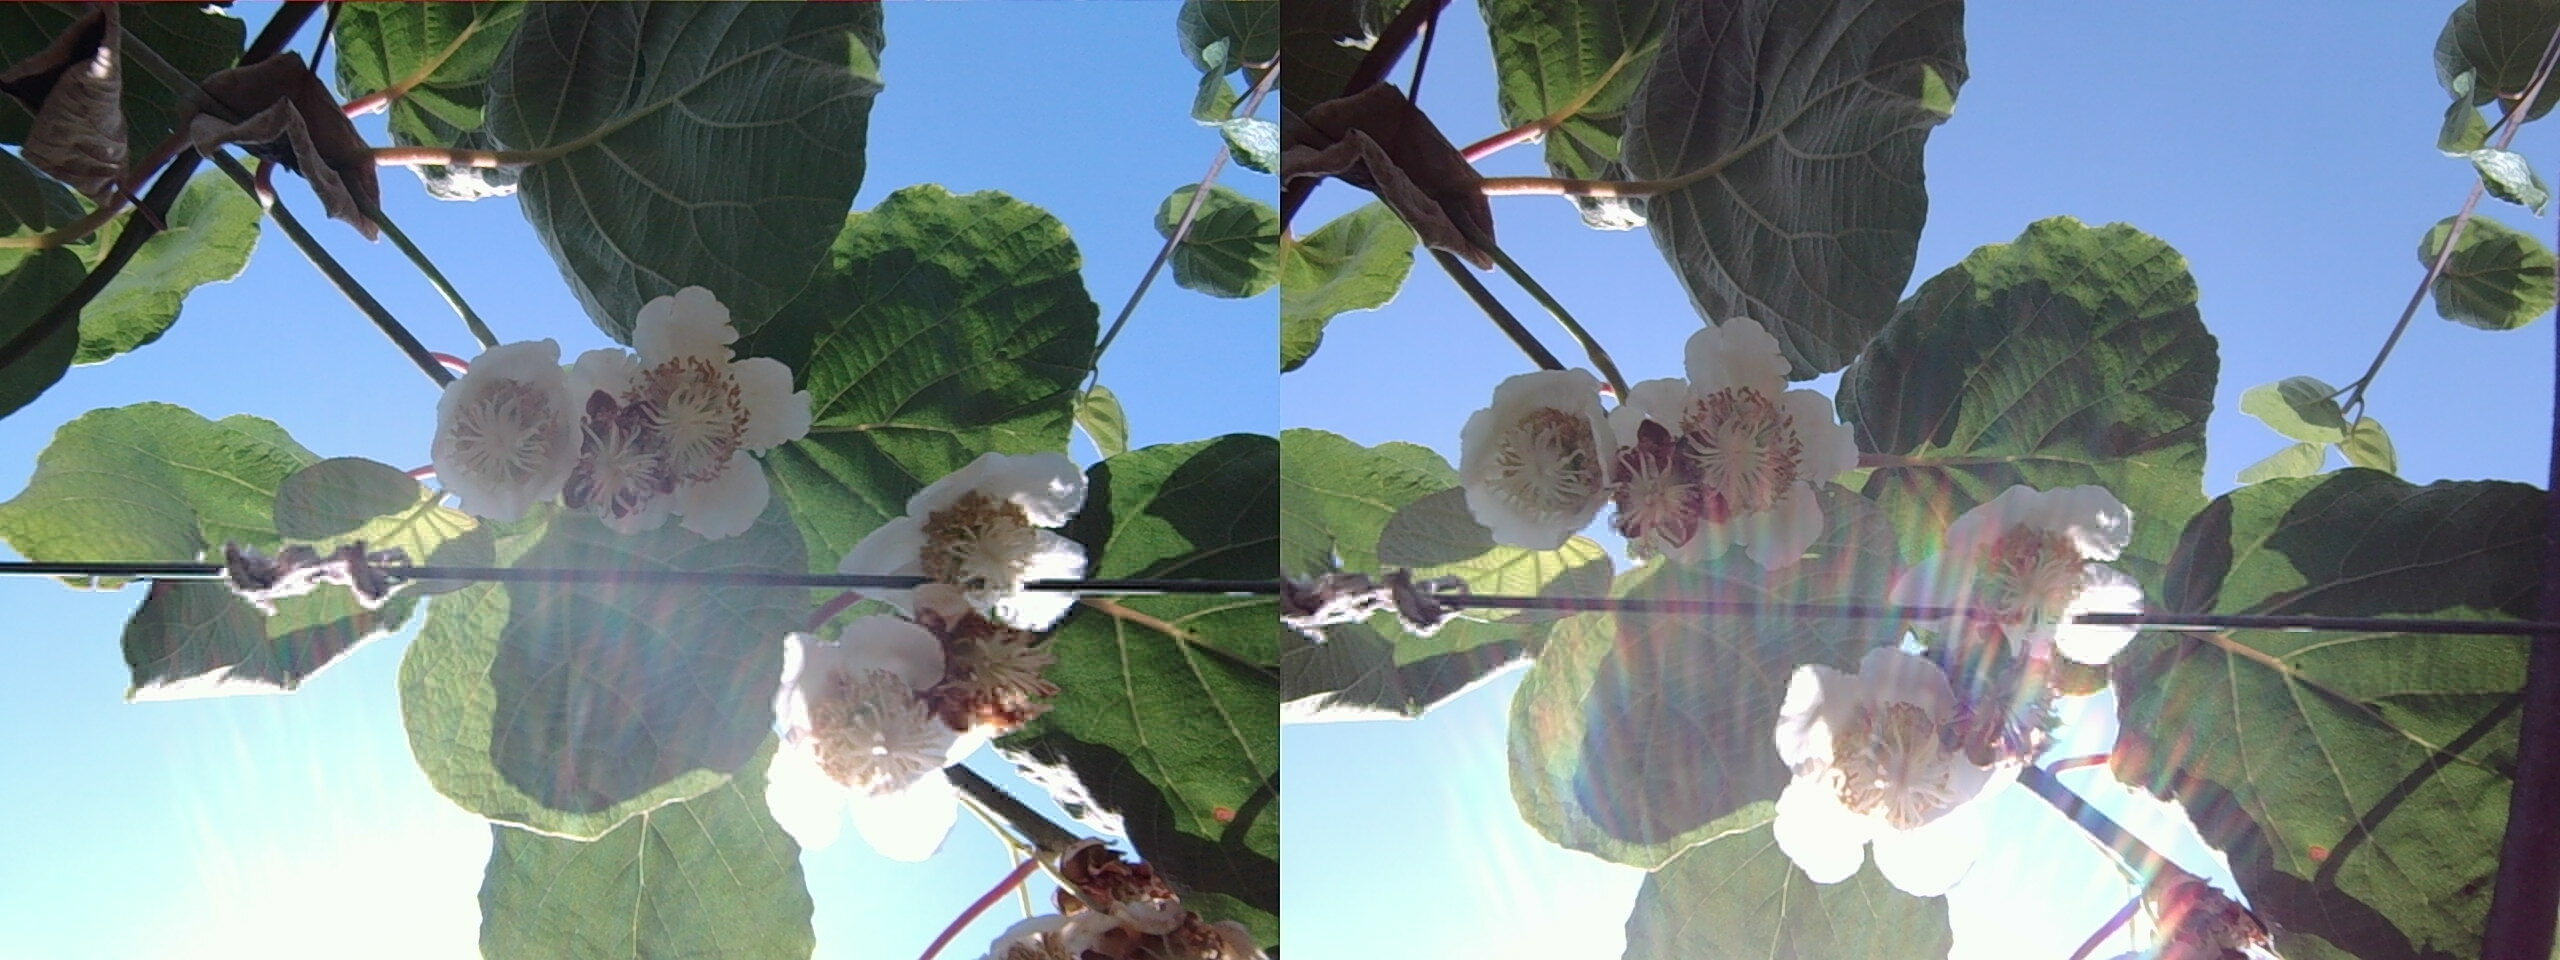flower: (1760, 635, 2024, 870), (557, 287, 803, 539), (1626, 317, 1853, 558), (761, 619, 1004, 829), (1917, 488, 2129, 686), (877, 442, 1086, 611), (1451, 369, 1628, 547), (426, 331, 591, 514)
